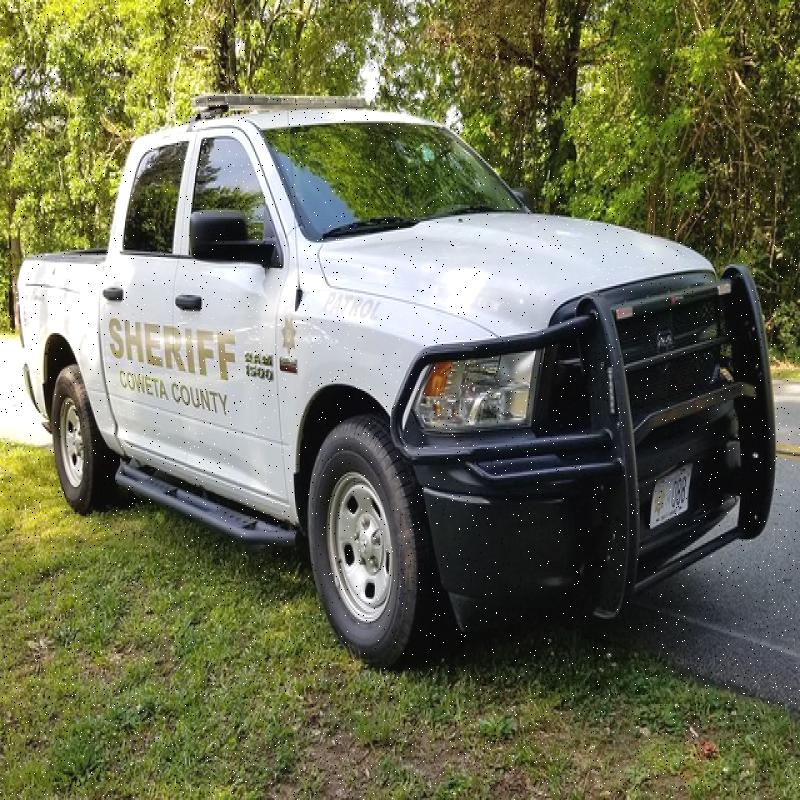AmbulanceSiren: (180, 75, 385, 122)
